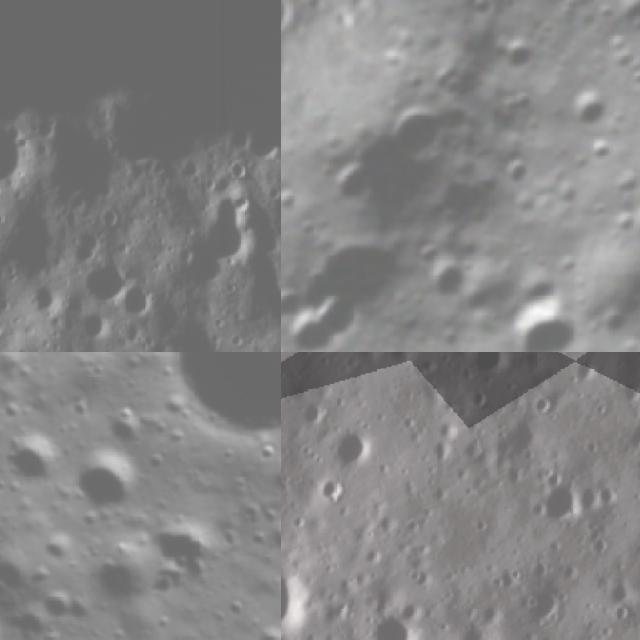crater: (281, 205, 426, 352), (130, 352, 281, 472), (146, 500, 239, 590), (493, 278, 602, 352), (77, 526, 164, 618), (378, 88, 460, 171), (65, 441, 148, 523), (525, 470, 599, 544), (492, 412, 560, 481), (27, 570, 94, 638), (281, 548, 330, 640), (281, 290, 352, 352), (554, 74, 620, 140), (343, 596, 440, 640), (321, 416, 386, 481), (0, 429, 62, 495), (324, 151, 388, 214), (488, 25, 551, 86), (518, 583, 576, 640), (80, 254, 128, 310), (305, 468, 356, 518), (292, 393, 342, 444), (457, 352, 522, 389), (496, 151, 540, 195), (114, 283, 162, 322), (616, 399, 640, 463), (524, 386, 562, 426), (390, 594, 428, 632), (77, 304, 114, 341), (462, 0, 506, 24), (512, 623, 569, 640), (625, 526, 640, 589), (515, 352, 575, 367)
